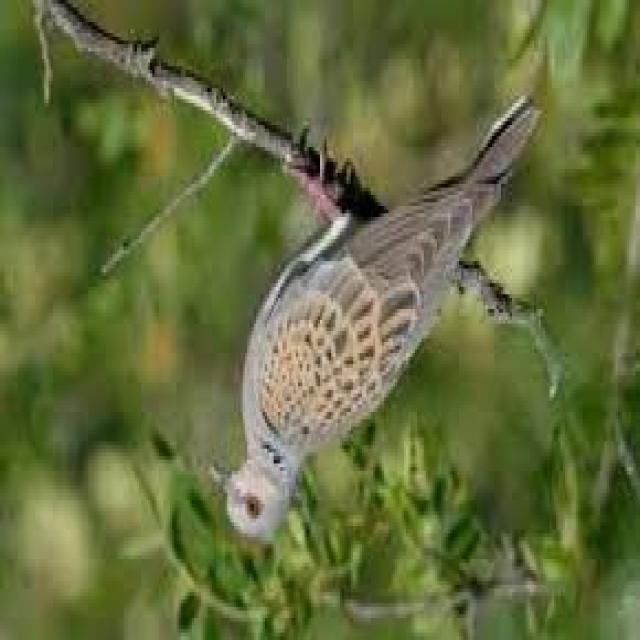pigeon: (213, 43, 538, 575)
